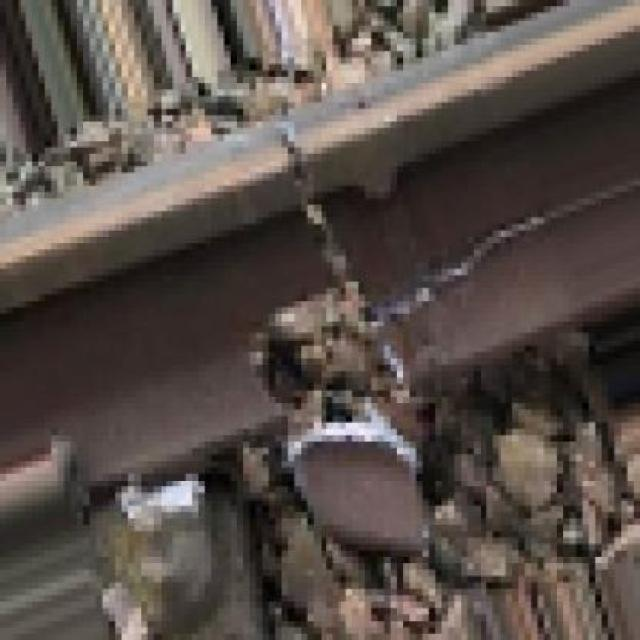defective: (17, 57, 640, 632)
